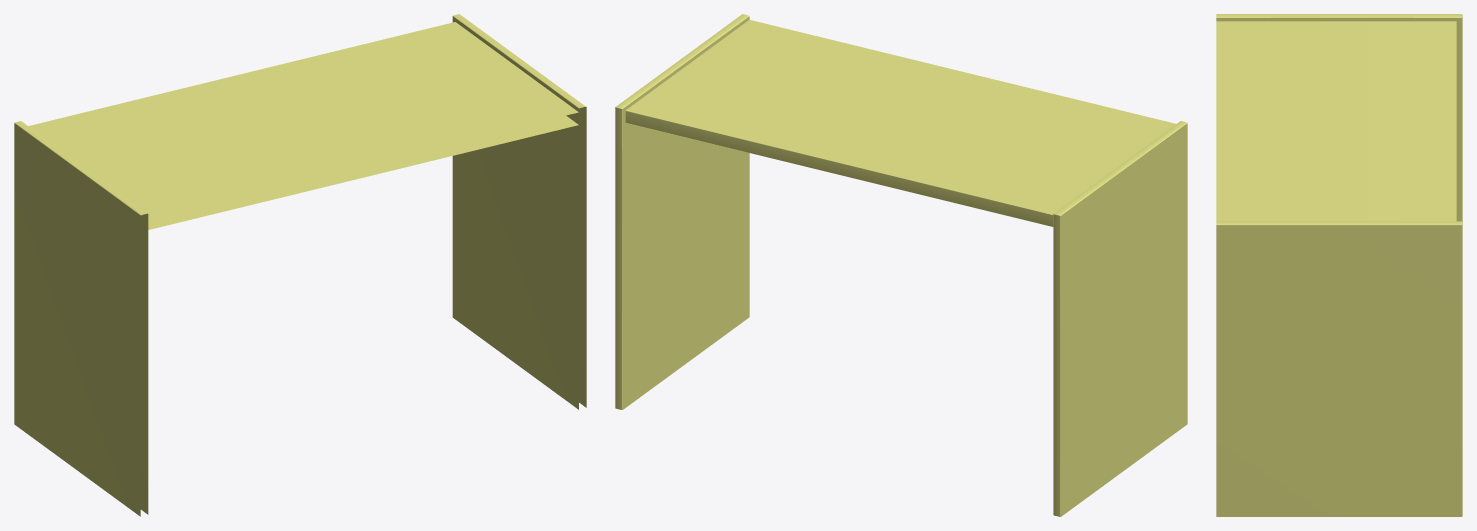
The model's file is table_v01_01_alsu.fbx.
3 renders of one model, left to right at view 1: azimuth 30°, elevation 25°; view 2: azimuth 150°, elevation 25°; view 3: azimuth 270°, elevation 25°, orthographic. The views are drawn at different scales.
Visible parts, largest first — view 1: geo_table_02; view 2: geo_table_02; view 3: geo_table_02.
Part boxes in pixels (box(x1,y1,x2,y2)): geo_table_02: box(14, 14, 586, 516); geo_table_02: box(615, 14, 1187, 516); geo_table_02: box(1216, 14, 1462, 516).
Size of the model in its own units: 176 by 114 by 86.8.
